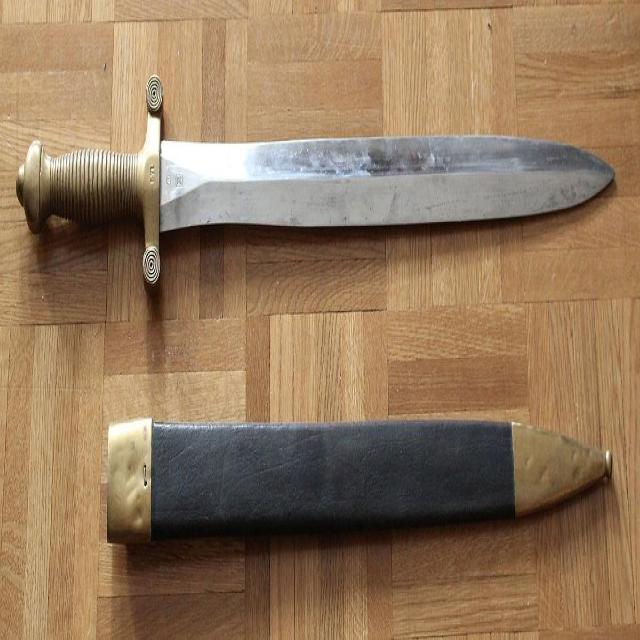weapon: (12, 69, 630, 290)
